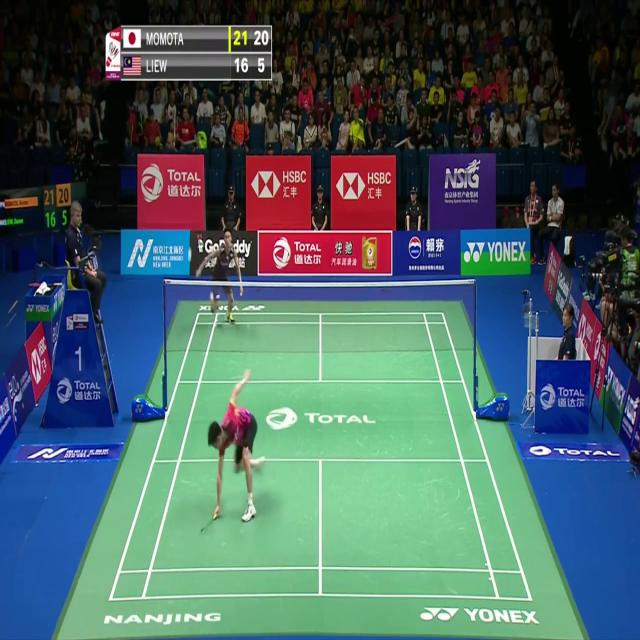Shuttlecock: (187, 249, 193, 261)
